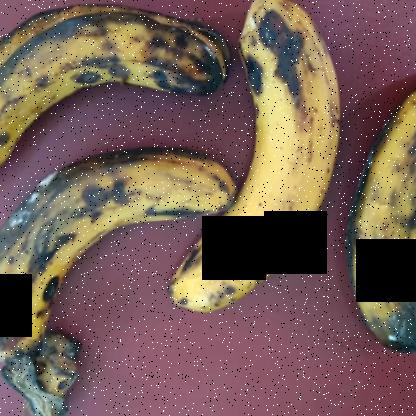overripe: (153, 0, 341, 361)
rotten: (1, 132, 230, 366), (0, 0, 236, 209), (329, 68, 415, 388)
